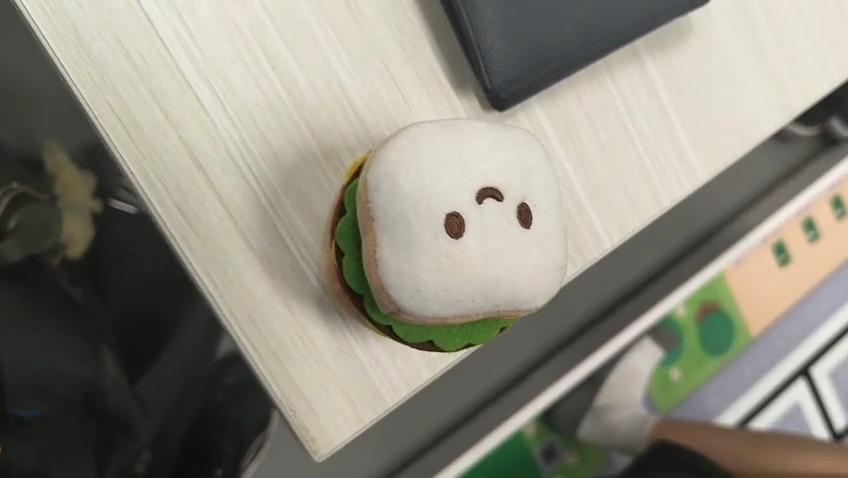objects: (334, 114, 575, 357)
